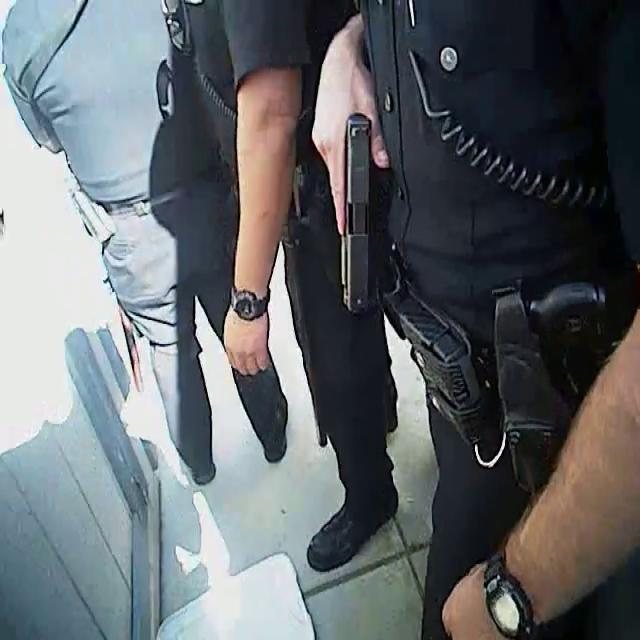gun: (301, 83, 420, 329)
